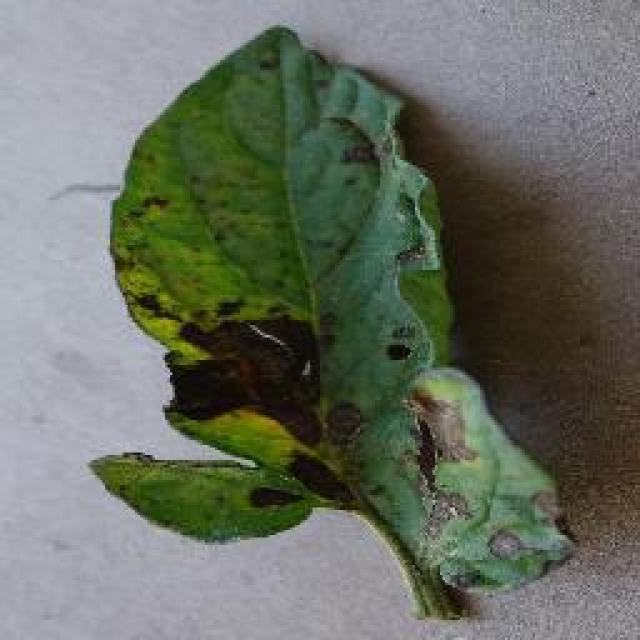Tomato Early blight leaf: (87, 24, 577, 598)
